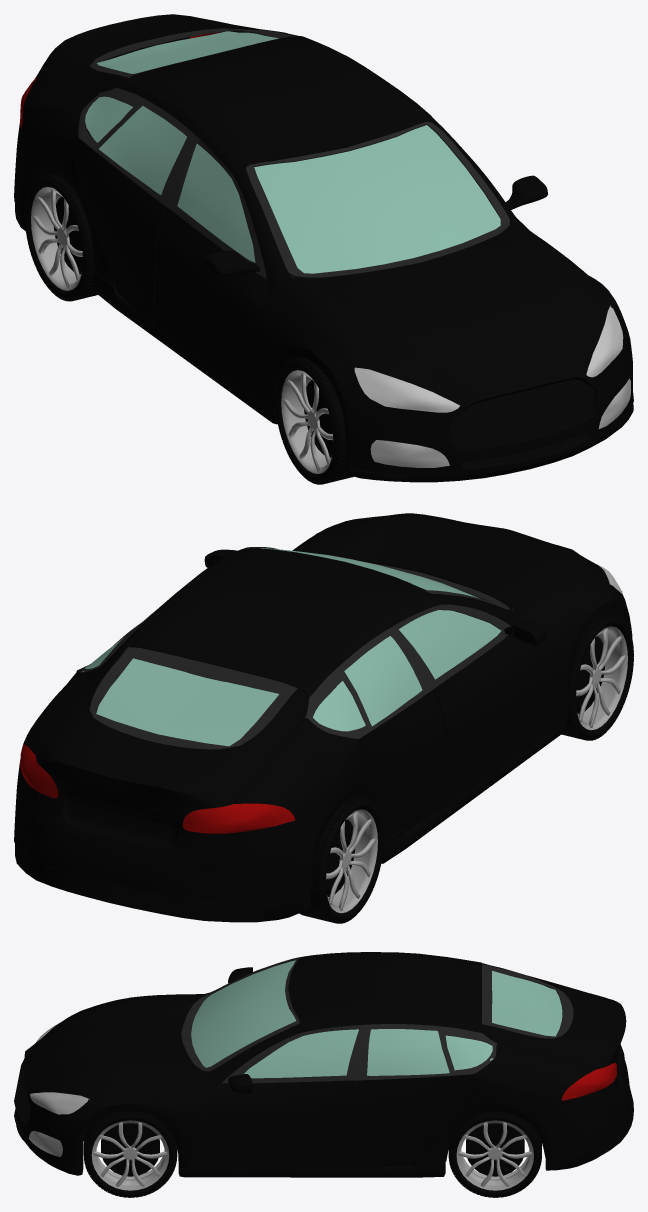
Rendered from Autoconvolante.fbx.
3 renders of one model, top to bottom at view 1: azimuth 30°, elevation 25°; view 2: azimuth 150°, elevation 25°; view 3: azimuth 270°, elevation 25°, orthographic. The views are drawn at different scales.
Parts seen in each view (by area): view 1: Auto, rueda.001, rueda.003; view 2: Auto, rueda.003, rueda.001; view 3: Auto, rueda, rueda.002.
Part boxes in pixels (x1,y1,x2,y2): Auto: [14, 14, 633, 482]; rueda.001: [275, 357, 353, 484]; rueda.003: [25, 173, 97, 301]; Auto: [14, 513, 632, 922]; rueda.003: [299, 796, 383, 923]; rueda.001: [561, 613, 633, 740]; Auto: [14, 952, 633, 1177]; rueda: [83, 1111, 177, 1197]; rueda.002: [448, 1111, 541, 1197].
Size of the model in its own units: 283 by 186 by 627.
